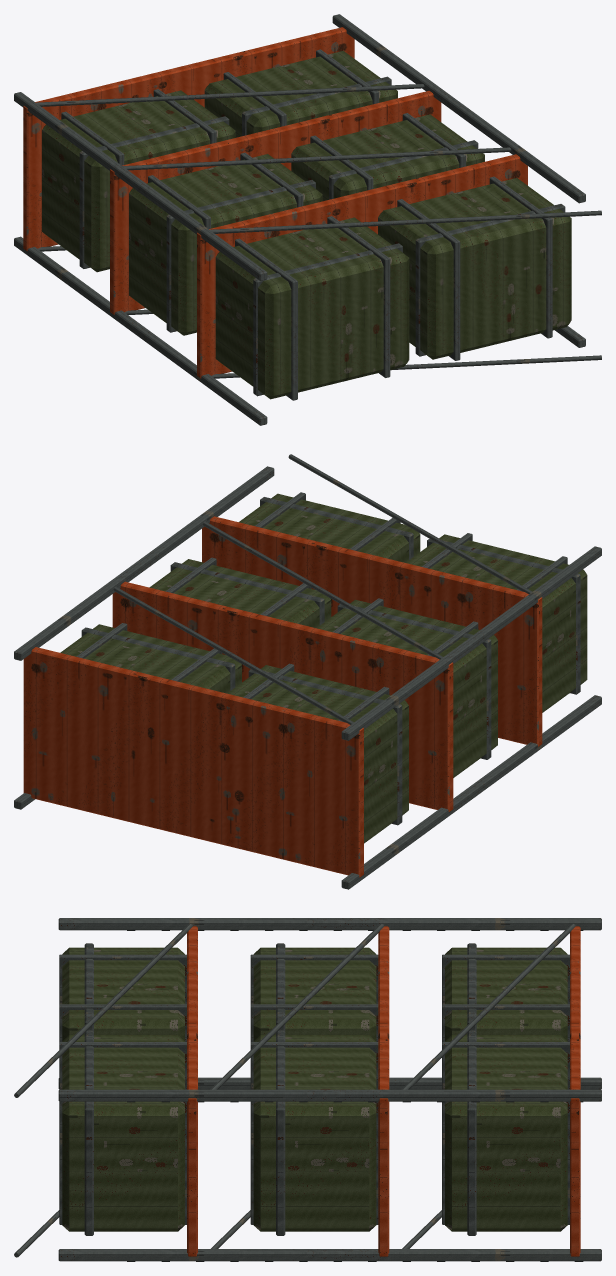
Rendered from kit-storage_rack.obj.
3 views of the same model, one above another, from view 1: azimuth 30°, elevation 25°; view 2: azimuth 150°, elevation 25°; view 3: azimuth 270°, elevation 25° (orthographic). The views are drawn at different scales.
Parts seen in each view (by area): view 1: Reusable.storage_rack; view 2: Reusable.storage_rack; view 3: Reusable.storage_rack.
Boxes of the visible parts, x1,y1,x2,y2 form: Reusable.storage_rack: [14, 14, 601, 425]; Reusable.storage_rack: [14, 454, 601, 889]; Reusable.storage_rack: [14, 918, 601, 1261].
Bounding box in the file's own units: 5.45 × 2.45 × 7.68.
Materials: 5 (5 with a texture image).
